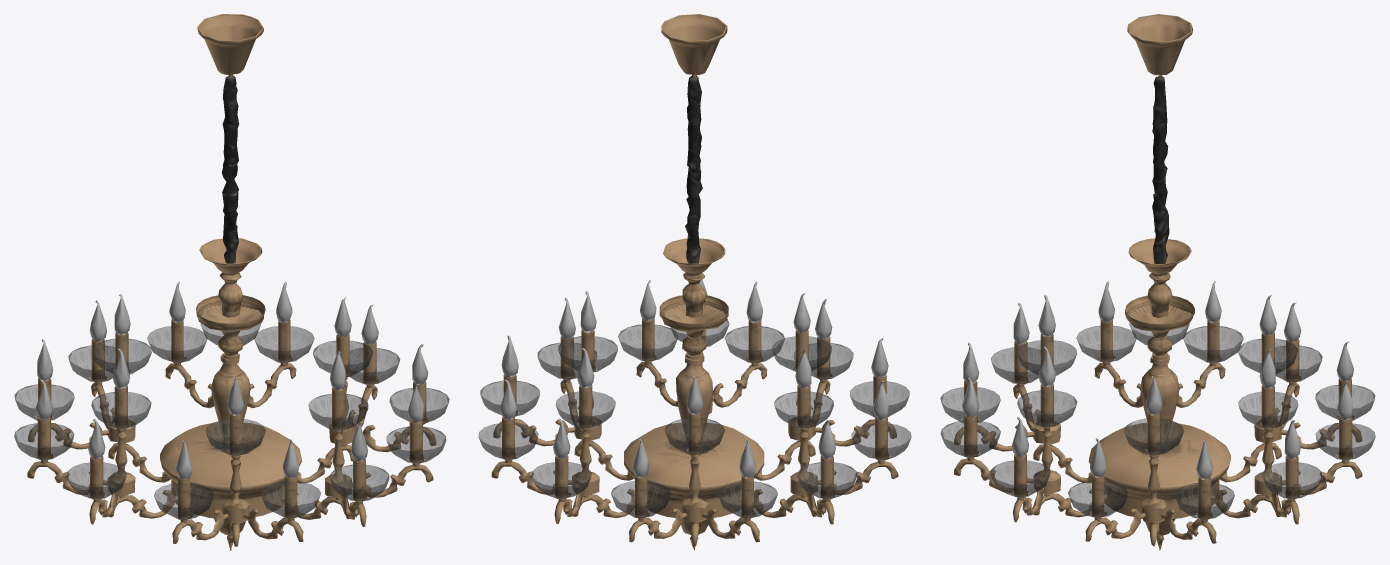
The model's file is Chandelier_03_lod1.glb.
The picture shows the model from 3 angles, left to right: view 1: azimuth 30°, elevation 25°; view 2: azimuth 150°, elevation 25°; view 3: azimuth 270°, elevation 25°; orthographic projection.
Visible parts, largest first — view 1: Chandelier_03; view 2: Chandelier_03; view 3: Chandelier_03.
Part boxes in pixels (x1,y1,x2,y2): Chandelier_03: [14, 14, 449, 550]; Chandelier_03: [478, 14, 911, 550]; Chandelier_03: [940, 14, 1375, 550].
Size of the model in its own units: 0.7804 by 1.04 by 0.7852.
Materials: 2 (2 with a texture image).
